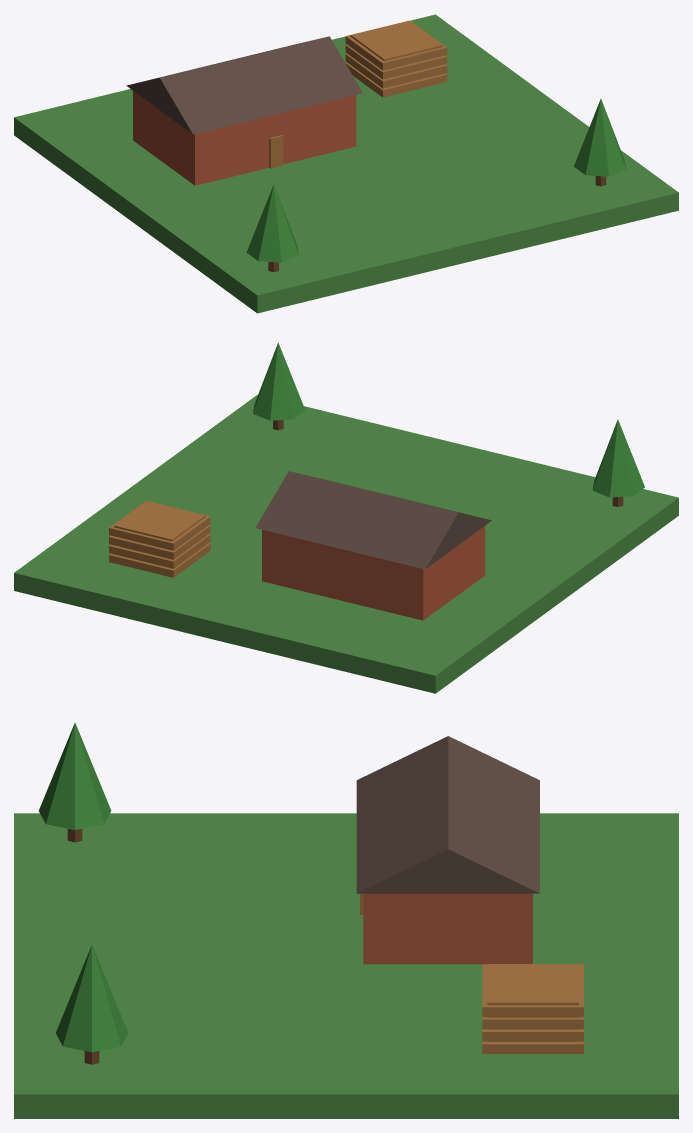
Rendered from forest_income_1.glb.
3 renders of one model, top to bottom at view 1: azimuth 30°, elevation 25°; view 2: azimuth 150°, elevation 25°; view 3: azimuth 270°, elevation 25°, orthographic. The views are drawn at different scales.
Visible parts, largest first — view 1: forest_income_1; view 2: forest_income_1; view 3: forest_income_1.
Boxes of the visible parts, x1,y1,x2,y2 form: forest_income_1: (14, 14, 678, 313); forest_income_1: (14, 342, 678, 693); forest_income_1: (14, 722, 678, 1118).
Size of the model in its own units: 1.96 by 0.464 by 1.96.
